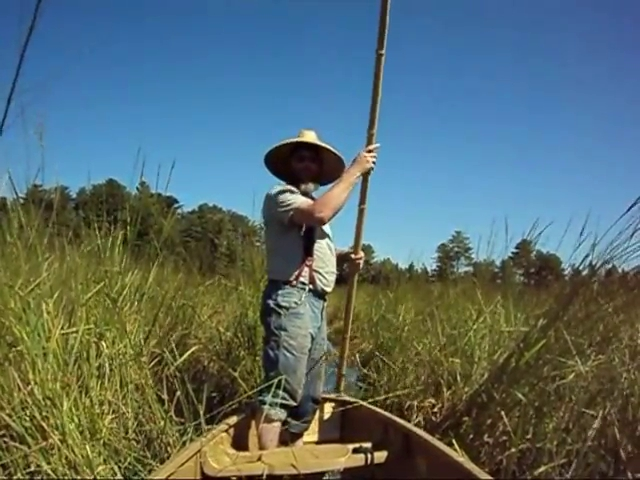person: (257, 129, 380, 450)
